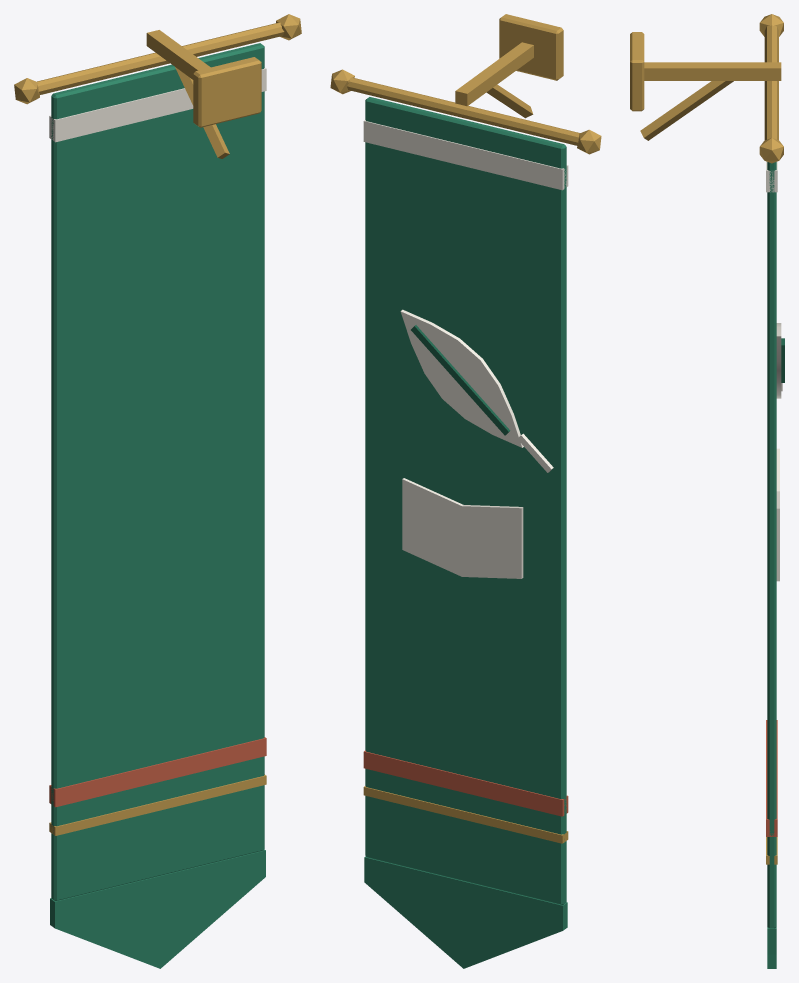
The model's file is lib_banner.glb.
The picture shows the model from 3 angles, left to right: view 1: azimuth 30°, elevation 25°; view 2: azimuth 150°, elevation 25°; view 3: azimuth 270°, elevation 25°; orthographic projection. The views are drawn at different scales.
Parts seen in each view (by area): view 1: banner; view 2: banner; view 3: banner.
Part boxes in pixels (x1,y1,x2,y2): banner: (14, 14, 301, 968); banner: (330, 14, 601, 968); banner: (630, 14, 784, 968).
Size of the model in its own units: 1.35 by 4.31 by 0.655.
